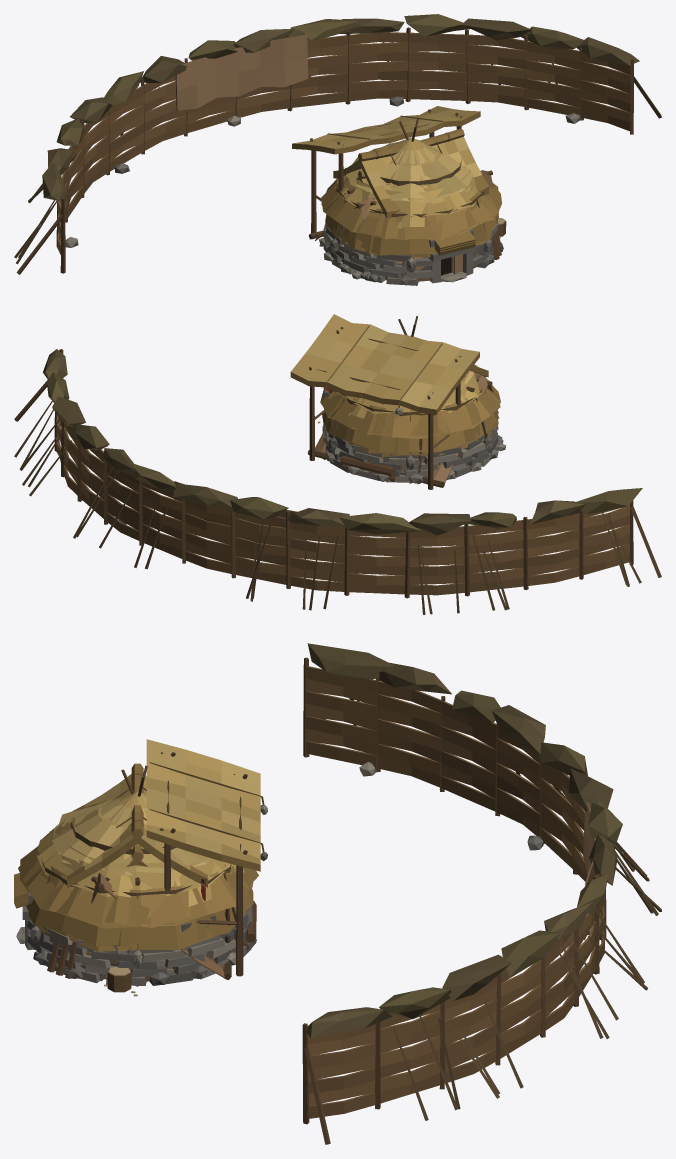
File: band.glb
3 renders of one model, top to bottom at view 1: azimuth 30°, elevation 25°; view 2: azimuth 150°, elevation 25°; view 3: azimuth 270°, elevation 25°, orthographic. The views are drawn at different scales.
Visible parts, largest first — view 1: bld__windbreak, bld__hut1s, bld__woodshed, bld__hut0, bld__hut0s, bld__storehouse, bld__hut0d, bld__hut1d, bld__hut1, bld__leanto; view 2: bld__windbreak, bld__woodshed, bld__hut1s, bld__hut0, bld__hut0s, bld__hut1d, bld__hut0d, bld__leanto, bld__hut1, bld__hearth; view 3: bld__windbreak, bld__hut1s, bld__woodshed, bld__hut0s, bld__hut0d, bld__hut0, bld__storehouse, bld__hut1d, bld__hut1, bld__leanto.
Part boxes in pixels (x1,y1,x2,y2): bld__windbreak: (14, 14, 661, 274); bld__hut1s: (323, 142, 498, 285); bld__woodshed: (292, 106, 506, 238); bld__hut0: (321, 118, 502, 276); bld__hut0s: (321, 138, 499, 282); bld__storehouse: (333, 128, 489, 217); bld__hut0d: (323, 138, 501, 240); bld__hut1d: (319, 162, 501, 284); bld__hut1: (319, 177, 503, 284); bld__leanto: (309, 170, 493, 240); bld__windbreak: (14, 349, 661, 614); bld__woodshed: (290, 314, 479, 489); bld__hut1s: (323, 340, 498, 482); bld__hut0: (321, 316, 500, 436); bld__hut0s: (322, 336, 506, 475); bld__hut1d: (322, 377, 498, 483); bld__hut0d: (320, 338, 497, 438); bld__leanto: (307, 374, 492, 487); bld__hut1: (322, 413, 502, 483); bld__hearth: (340, 456, 395, 481); bld__windbreak: (302, 643, 661, 1144); bld__hut1s: (14, 798, 253, 985); bld__woodshed: (104, 739, 267, 996); bld__hut0s: (18, 791, 253, 983); bld__hut0d: (21, 792, 226, 925); bld__hut0: (20, 765, 258, 978); bld__storehouse: (67, 763, 207, 888); bld__hut1d: (14, 825, 256, 984); bld__hut1: (14, 846, 256, 984); bld__leanto: (91, 872, 231, 979).
Bounding box in the file's own units: 3.28 × 0.7919 × 2.16.
